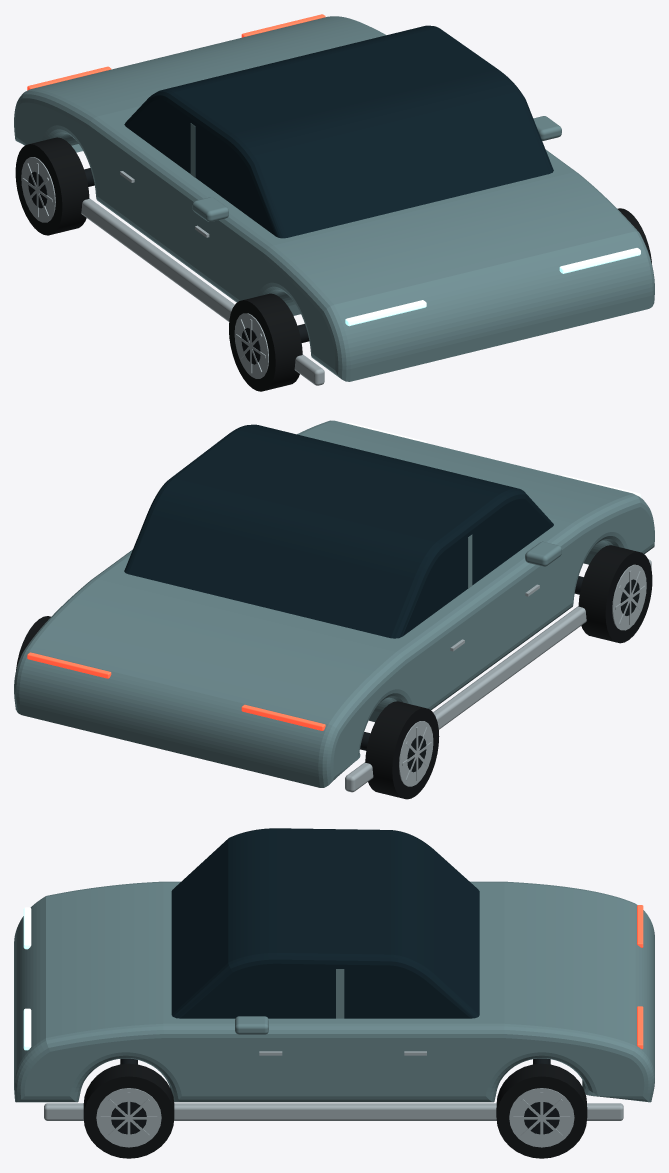
File: car.glb
3 renders of one model, top to bottom at view 1: azimuth 30°, elevation 25°; view 2: azimuth 150°, elevation 25°; view 3: azimuth 270°, elevation 25°, orthographic. The views are drawn at different scales.
Visible parts, largest first — view 1: Barak_car; view 2: Barak_car; view 3: Barak_car.
Boxes of the visible parts, bbox=[...] form: Barak_car: bbox=[14, 14, 654, 391]; Barak_car: bbox=[14, 420, 654, 799]; Barak_car: bbox=[14, 828, 654, 1158].
Bounding box in the file's own units: 6.74 × 3.13 × 10.17.
